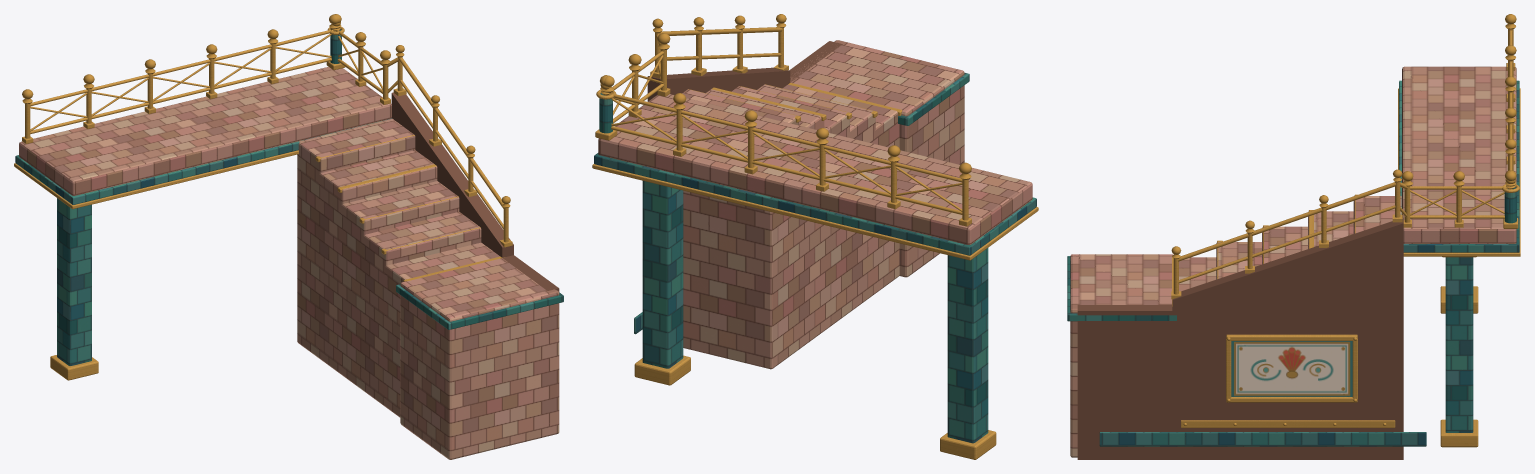
Rendered from act2_right_stairs.glb.
The picture shows the model from 3 angles, left to right: view 1: azimuth 30°, elevation 25°; view 2: azimuth 150°, elevation 25°; view 3: azimuth 270°, elevation 25°; orthographic projection. The views are drawn at different scales.
Visible parts, largest first — view 1: SM_Act2_RightStairs_Mesh; view 2: SM_Act2_RightStairs_Mesh; view 3: SM_Act2_RightStairs_Mesh.
Part boxes in pixels (x1,y1,x2,y2): SM_Act2_RightStairs_Mesh: (14,14,563,459); SM_Act2_RightStairs_Mesh: (592,14,1038,459); SM_Act2_RightStairs_Mesh: (1067,14,1520,459).
Bounding box in the file's own units: 4.09 × 3.18 × 4.55.
Materials: 4 (4 with a texture image).
